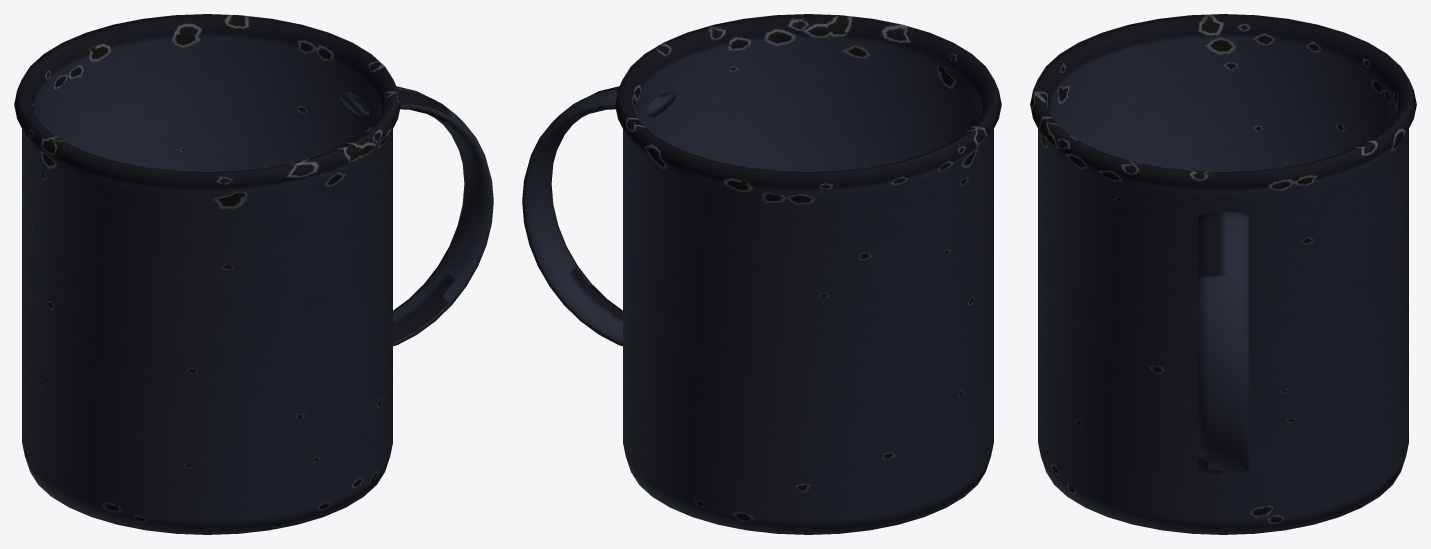
Rendered from tin-mug.glb.
The picture shows the model from 3 angles, left to right: view 1: azimuth 30°, elevation 25°; view 2: azimuth 150°, elevation 25°; view 3: azimuth 270°, elevation 25°; orthographic projection.
Parts seen in each view (by area): view 1: tin-mug-body; view 2: tin-mug-body; view 3: tin-mug-body.
Boxes of the visible parts, x1,y1,x2,y2 form: tin-mug-body: (14, 14, 493, 534); tin-mug-body: (522, 14, 1001, 534); tin-mug-body: (1030, 14, 1416, 534).
Bounding box in the file's own units: 0.1166 × 0.0912 × 0.0876.
Materials: 2 (1 with a texture image).
